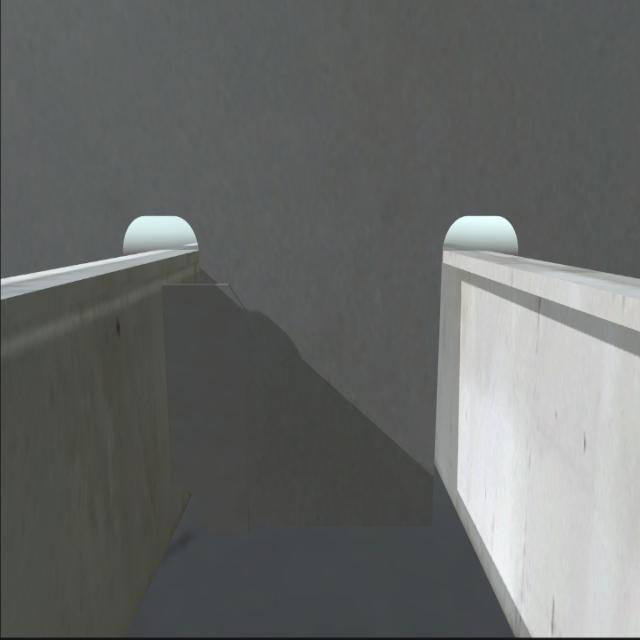fillet_hole: (175, 487, 209, 534)
fillet_yong_jeop_jang: (202, 515, 444, 544)
longi_yong_jeop_jang: (160, 272, 183, 506)
plate_CP03: (165, 278, 252, 535)
